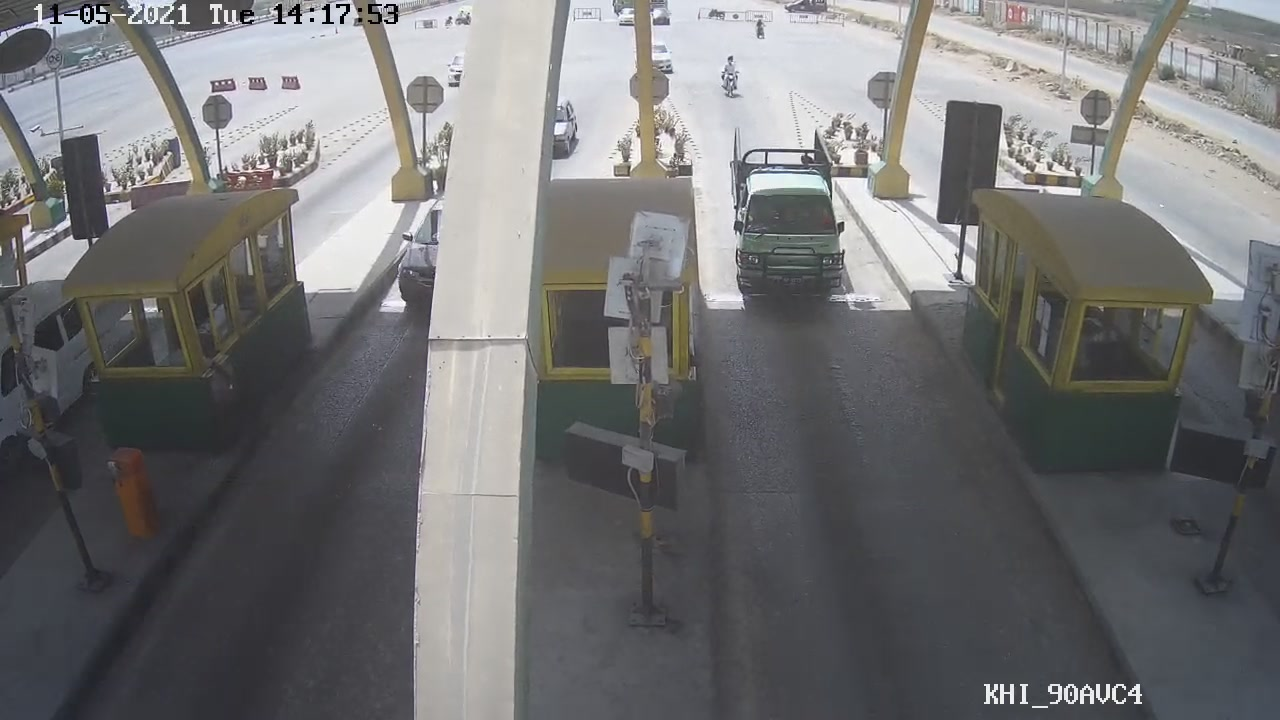F1: (719, 124, 866, 307)
